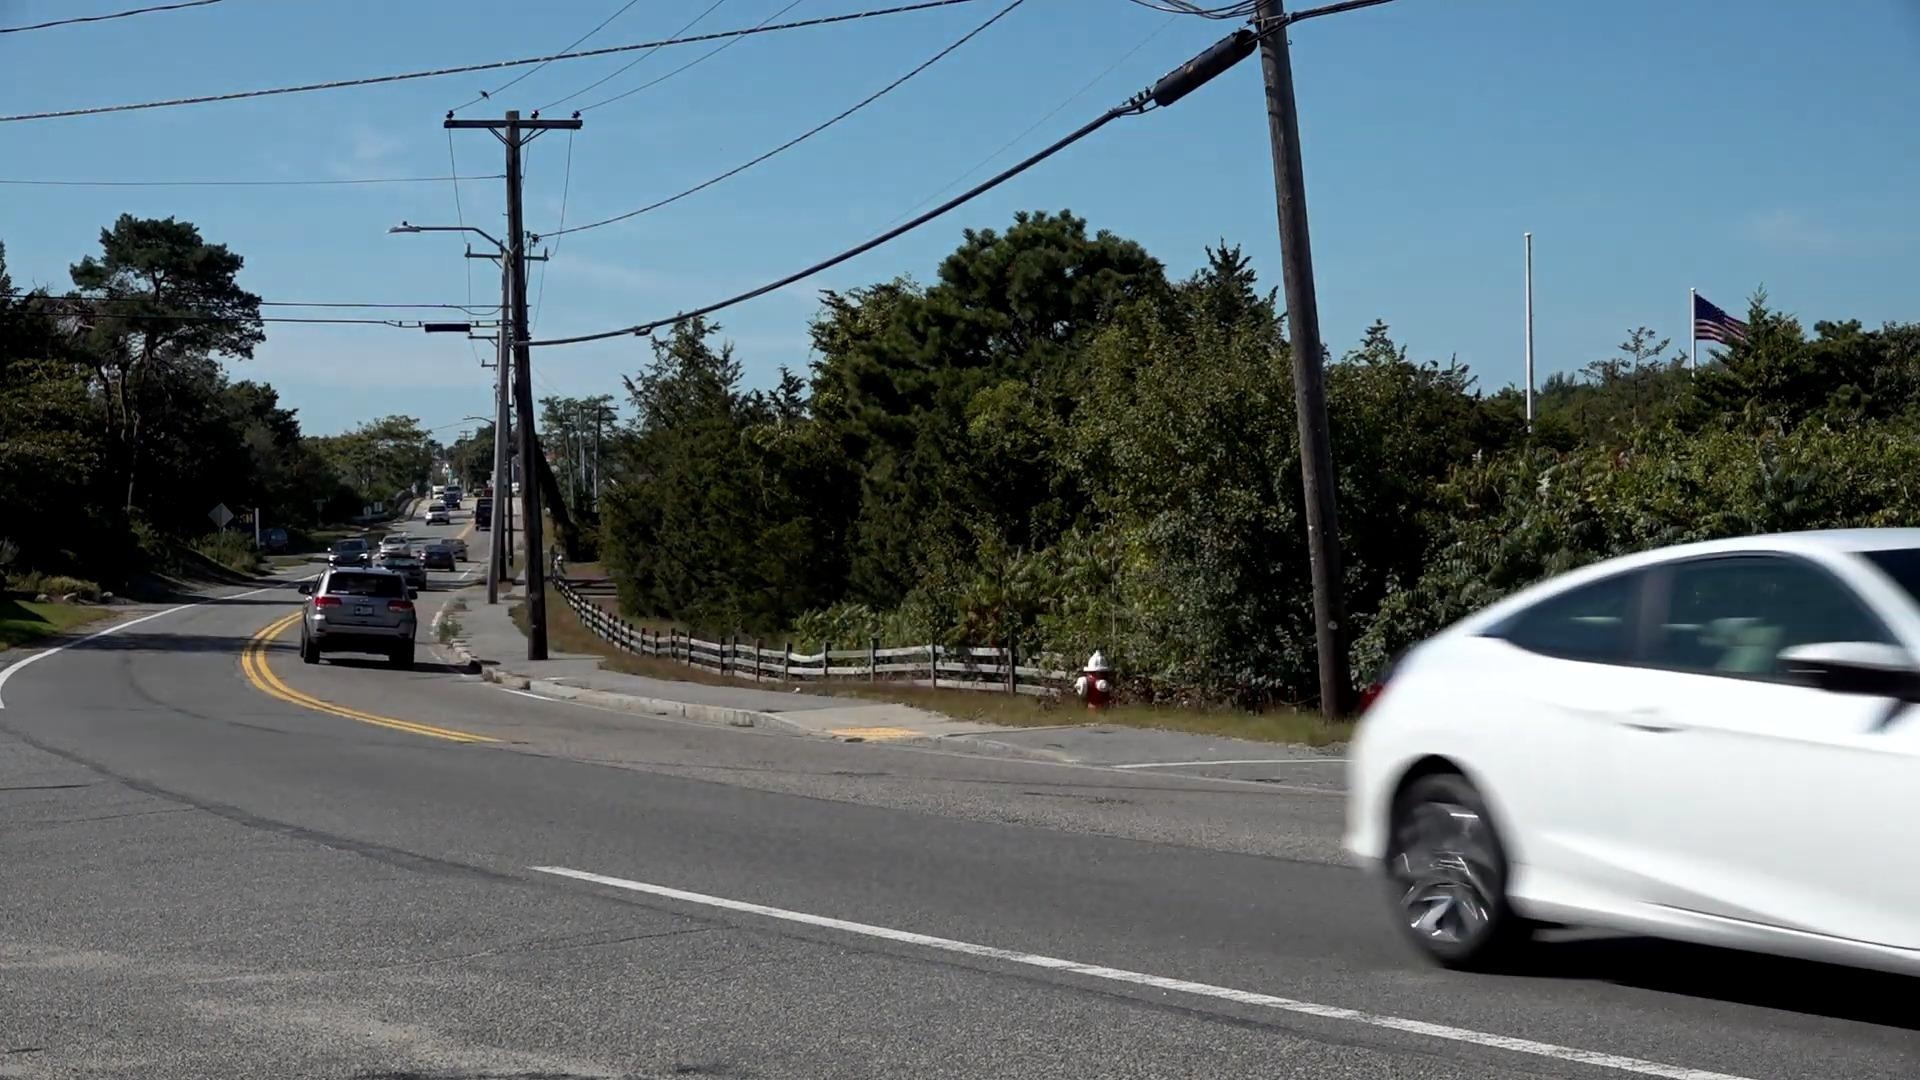sedans: (1338, 532, 1920, 978)
suv: (307, 564, 417, 664)
